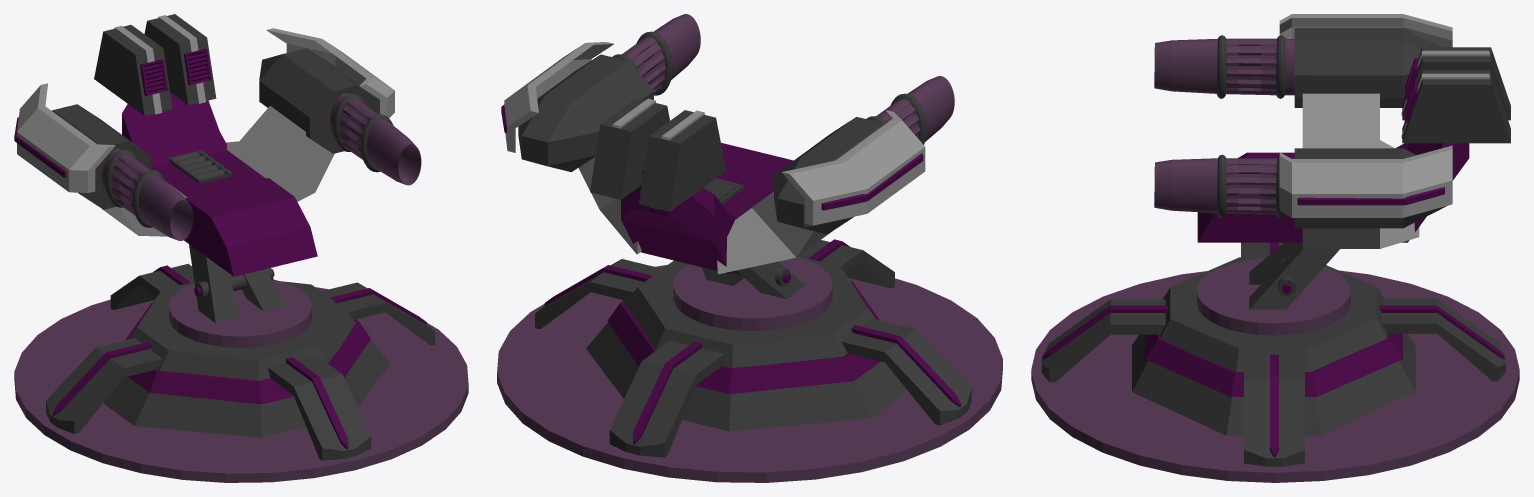
The model's file is Turm 17.fbx.
3 views of the same model, side by side, from view 1: azimuth 30°, elevation 25°; view 2: azimuth 150°, elevation 25°; view 3: azimuth 270°, elevation 25° (orthographic). The views are drawn at different scales.
Visible parts, largest first — view 1: Cube.004, Cylinder.003; view 2: Cylinder.003, Cube.004; view 3: Cylinder.003, Cube.004.
Part boxes in pixels (x1,y1,x2,y2): Cube.004: [14, 14, 421, 347]; Cylinder.003: [14, 263, 468, 482]; Cylinder.003: [497, 239, 1002, 482]; Cube.004: [501, 14, 954, 330]; Cylinder.003: [1031, 242, 1519, 482]; Cube.004: [1154, 14, 1510, 335].
Size of the model in its own units: 270 by 192 by 270.
